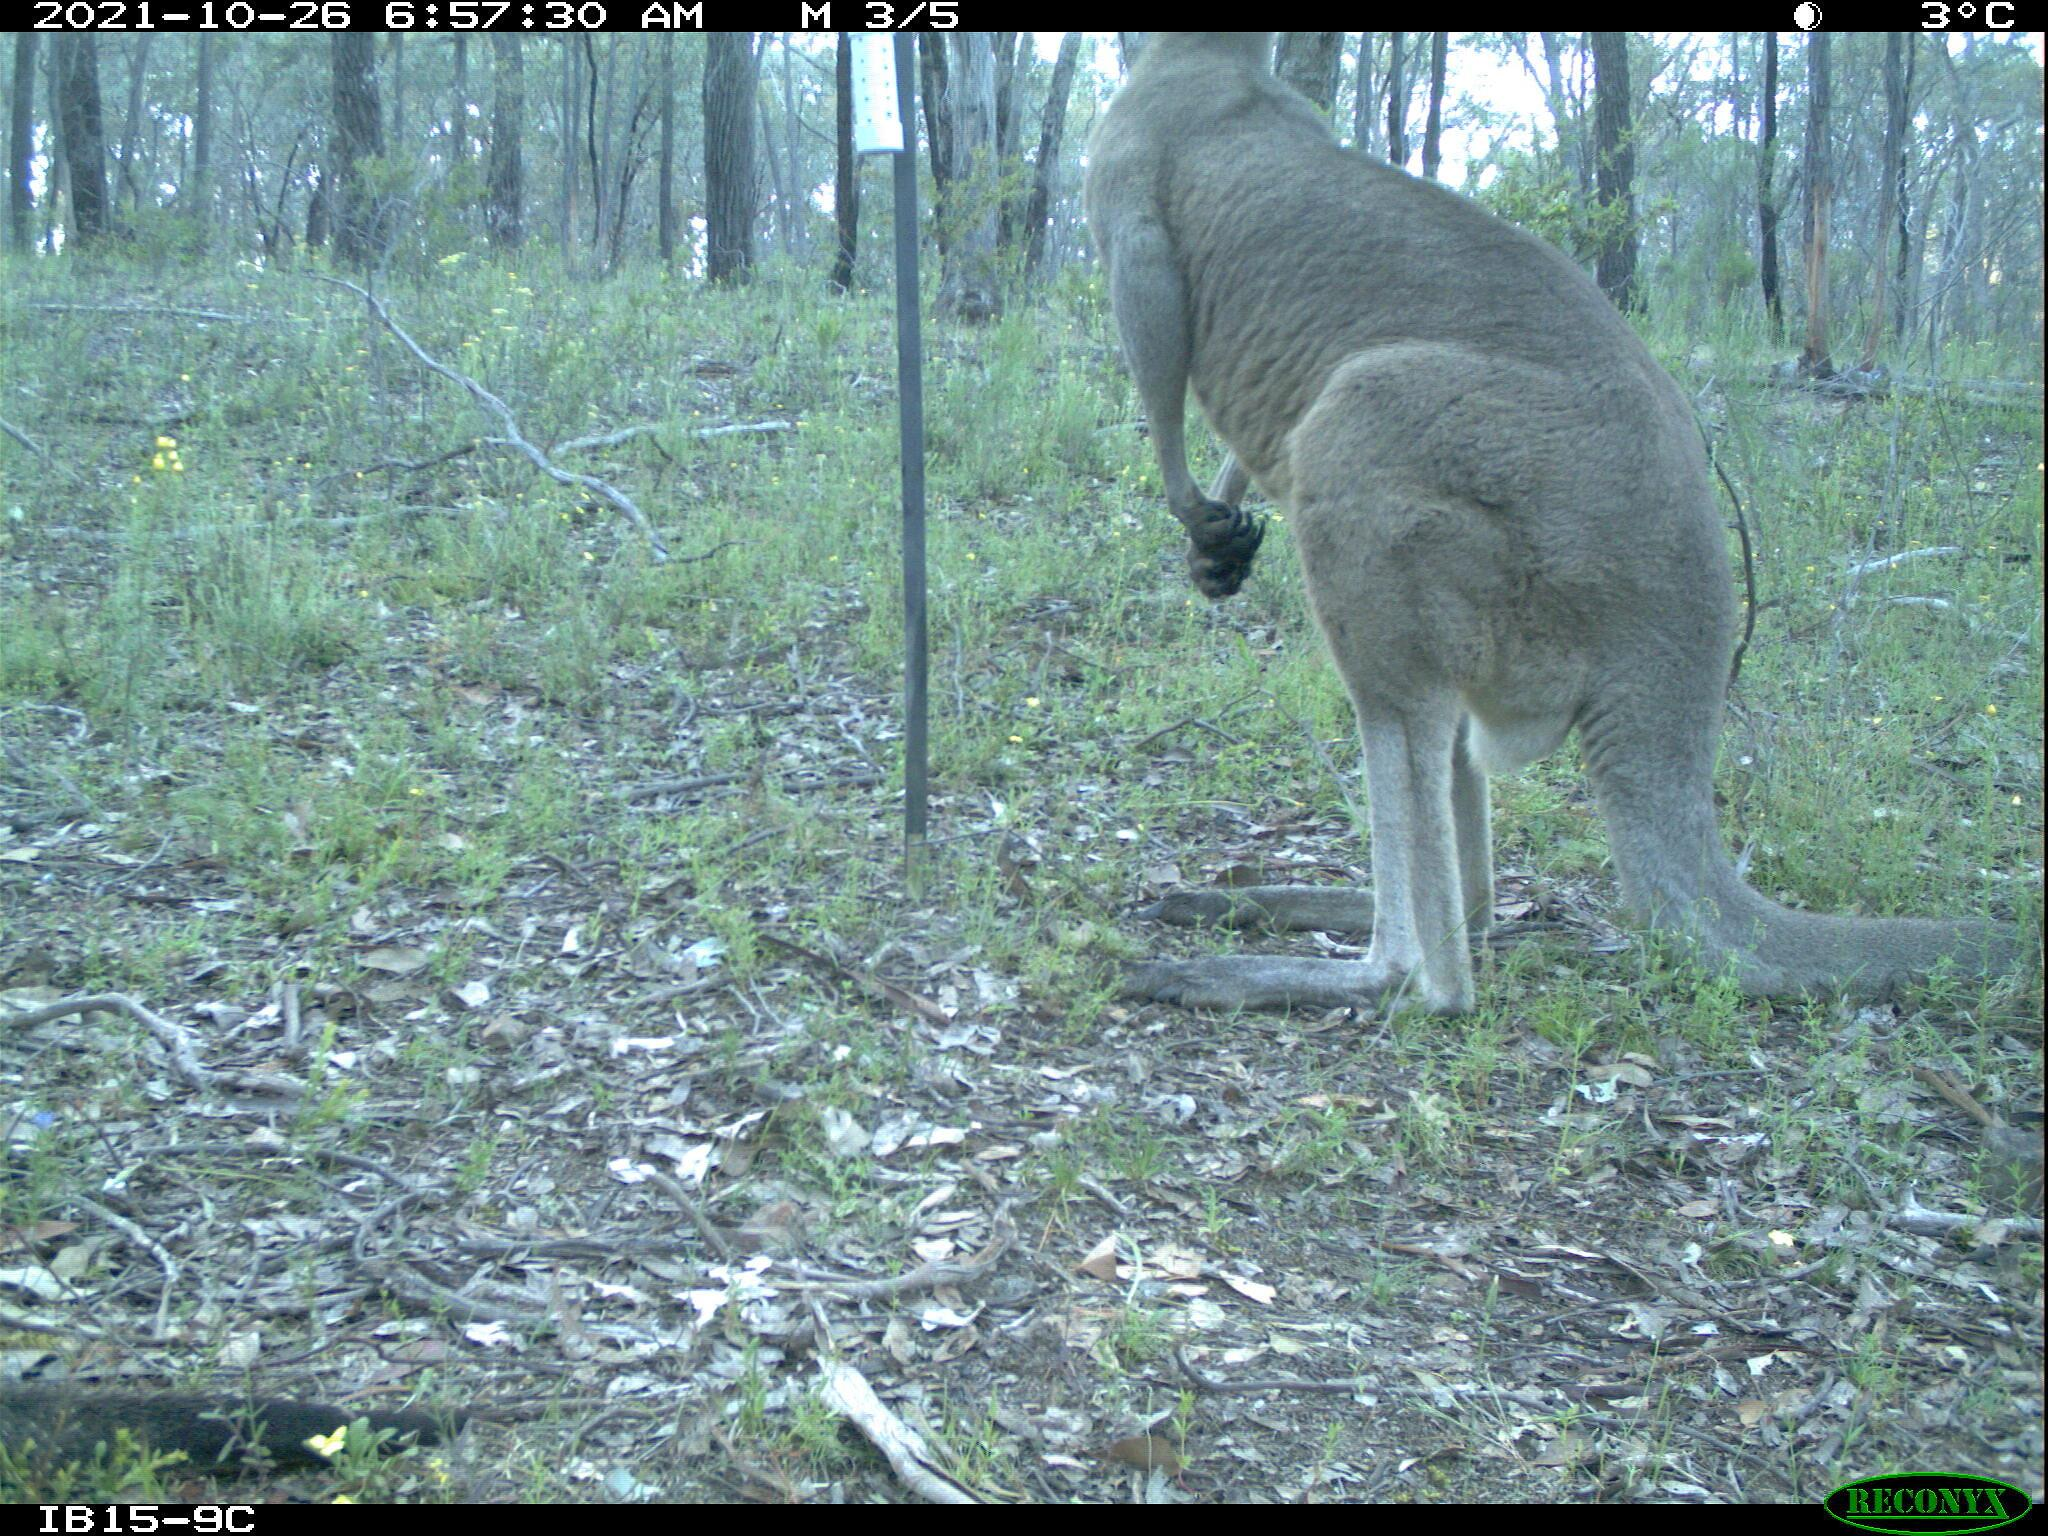Eastern grey kangaroo: (1066, 37, 2035, 1028)
